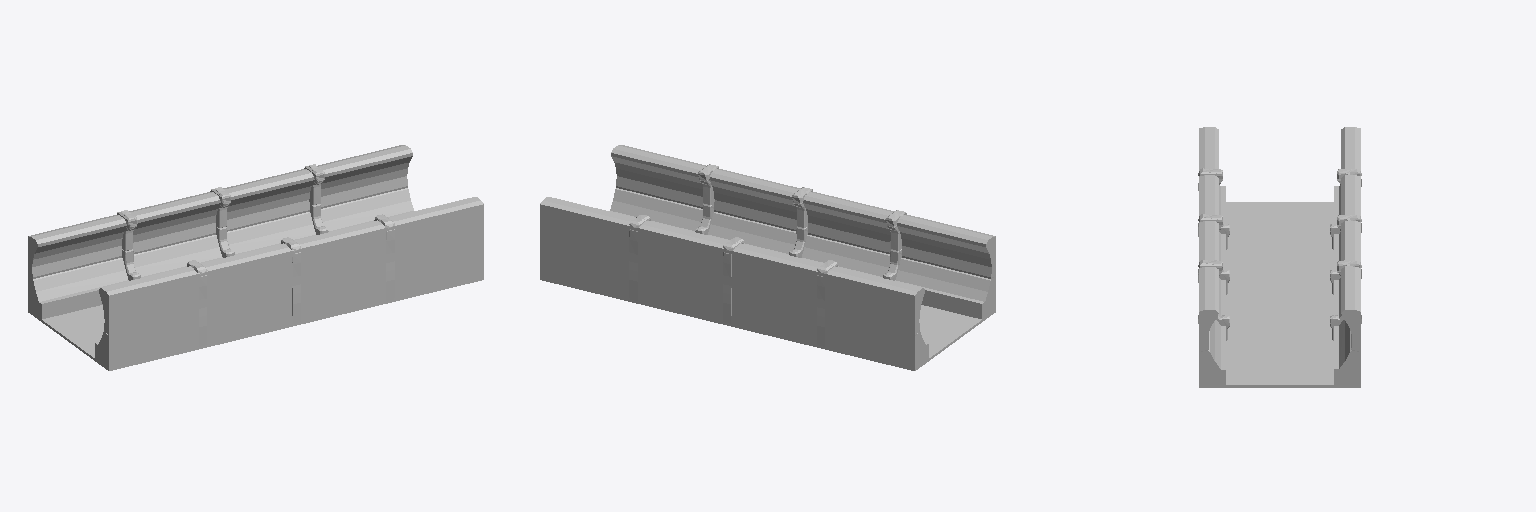
Rendered from DungeonRoom_13.obj.
The picture shows the model from 3 angles: view 1: azimuth 30°, elevation 25°; view 2: azimuth 150°, elevation 25°; view 3: azimuth 270°, elevation 25°; orthographic projection.
Visible parts, largest first — view 1: DungeonRoom_13; view 2: DungeonRoom_13; view 3: DungeonRoom_13.
Part boxes in pixels (x1,y1,x2,y2): DungeonRoom_13: (28,145,483,370); DungeonRoom_13: (540,145,995,370); DungeonRoom_13: (1198,127,1361,387).
Bounding box in the file's own units: 32 × 6.51 × 12.11.